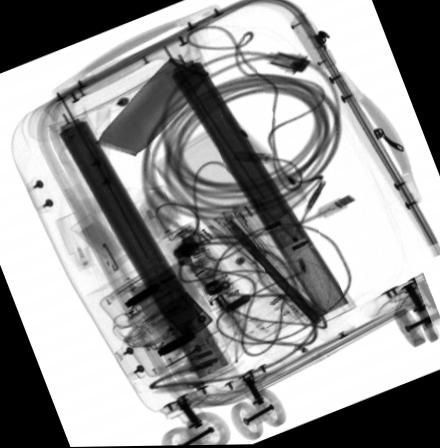Lighter: (158, 291, 212, 340)
